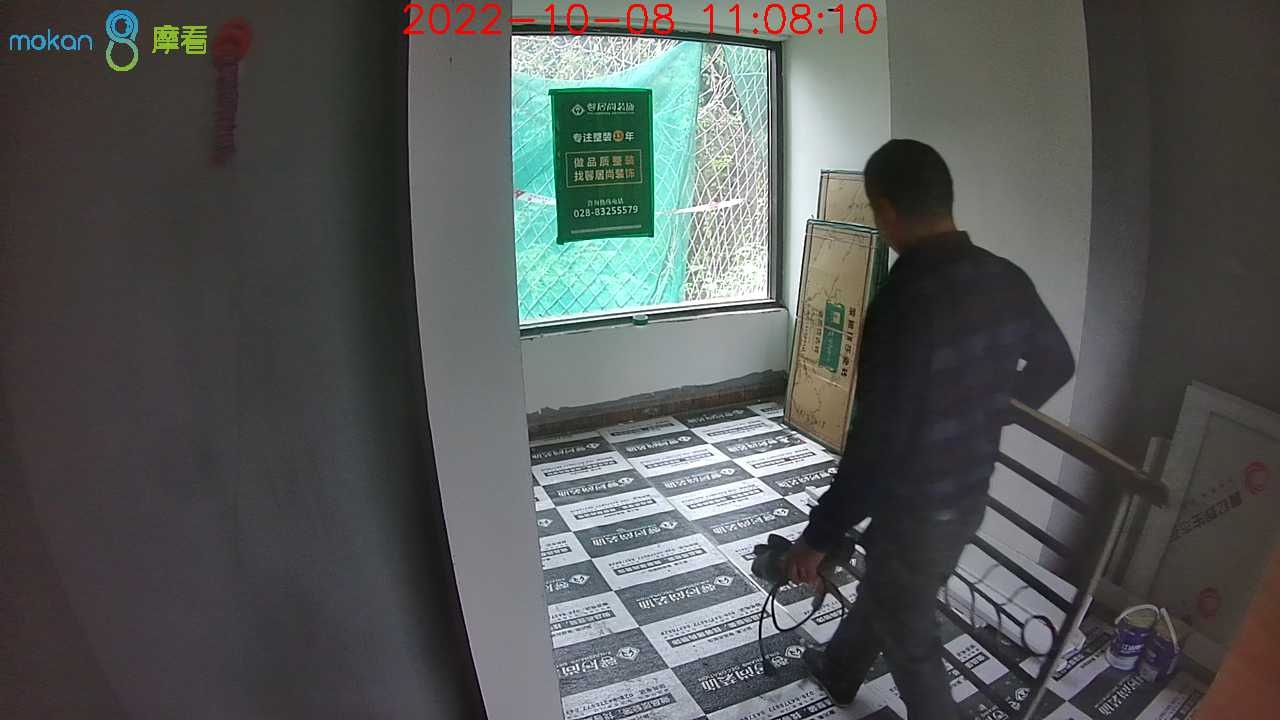people: (783, 137, 1075, 720)
window: (512, 31, 786, 327)
